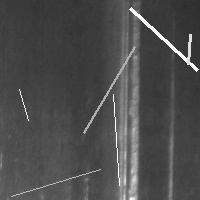scratches: (78, 42, 139, 138), (125, 3, 200, 75), (116, 1, 142, 200), (6, 164, 105, 200), (165, 58, 177, 199), (108, 89, 124, 190), (14, 84, 33, 125), (183, 29, 195, 69)
